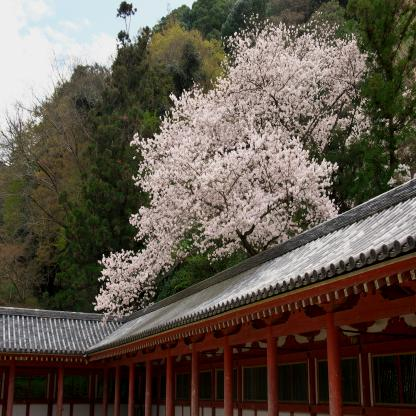Someiyoshino: (89, 21, 370, 324)
